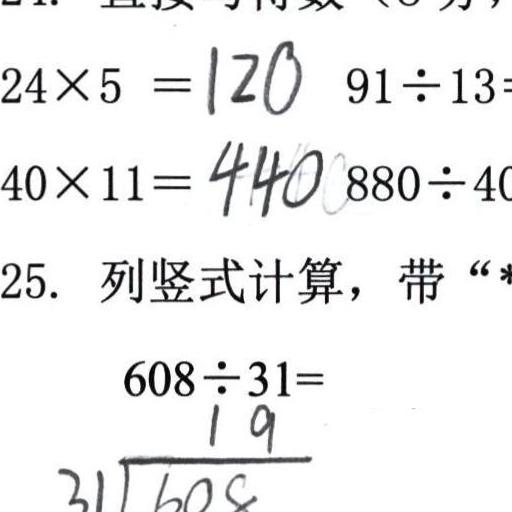ans: (204, 132, 323, 219), (199, 32, 301, 117)
